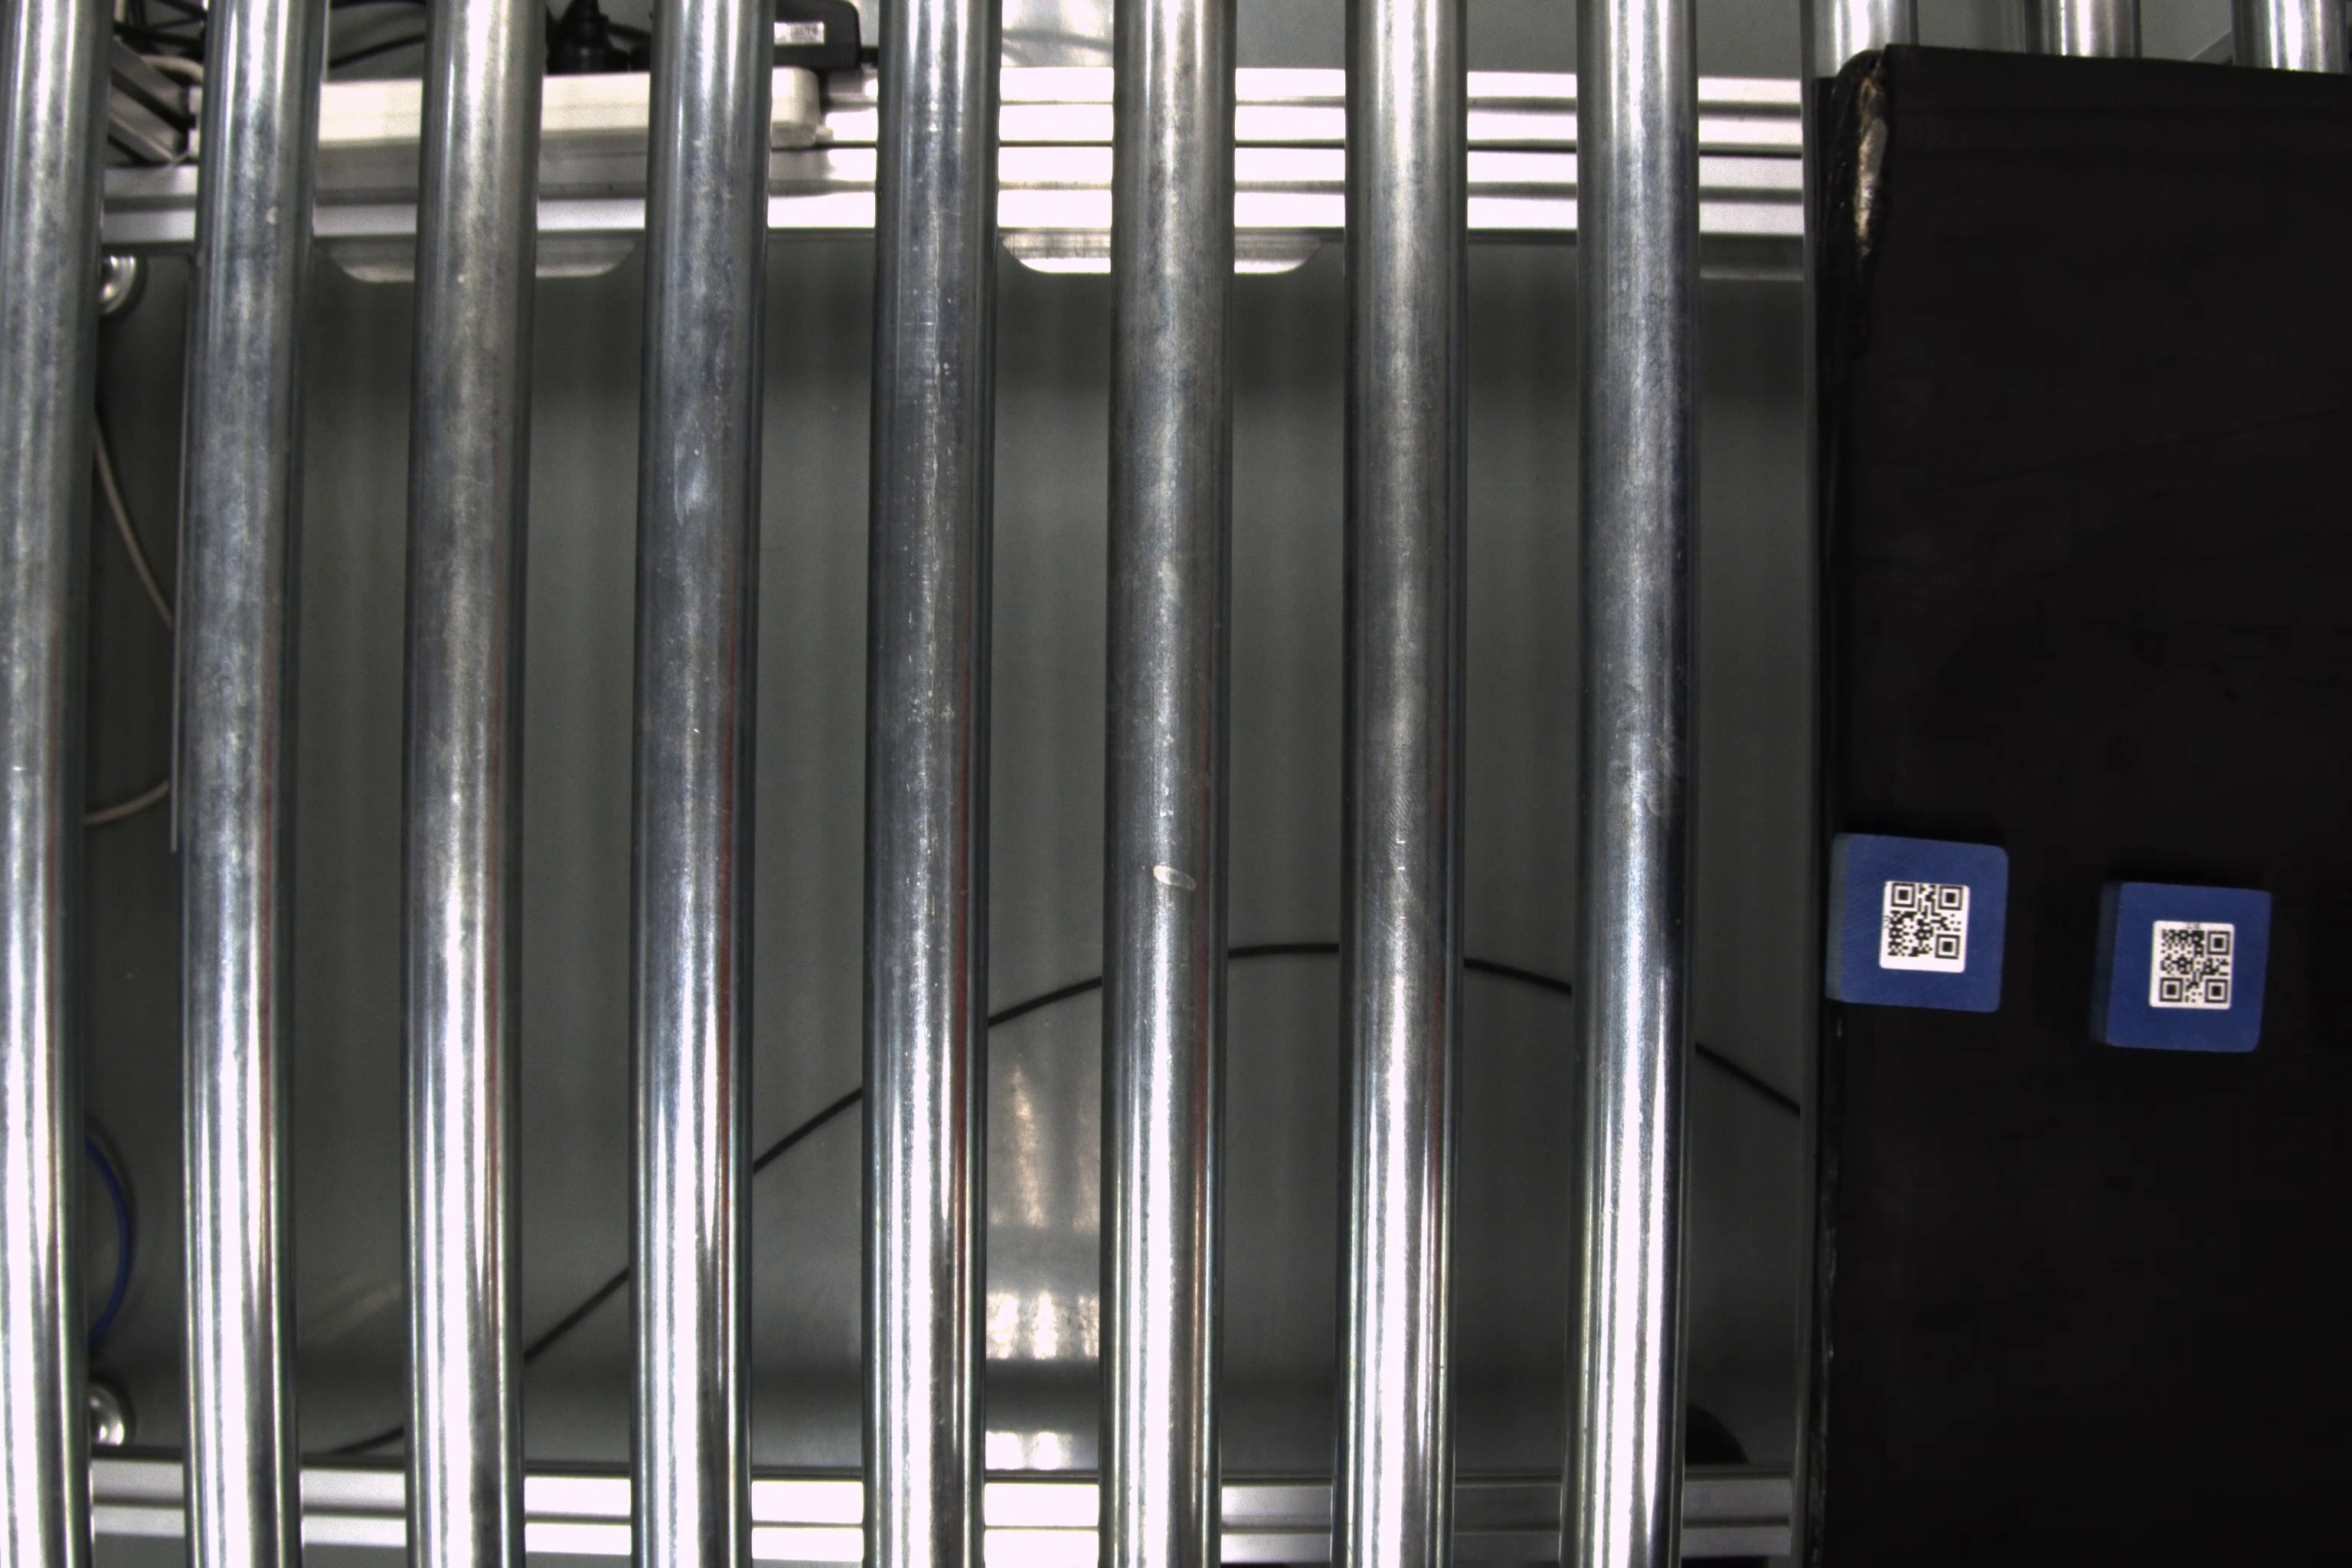wood: (1820, 833, 2007, 1018), (2088, 880, 2275, 1055)
